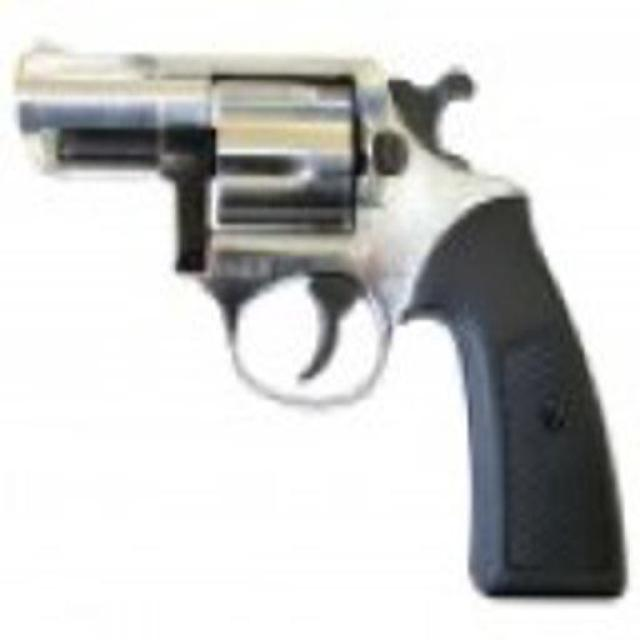pistol: (11, 36, 620, 596)
